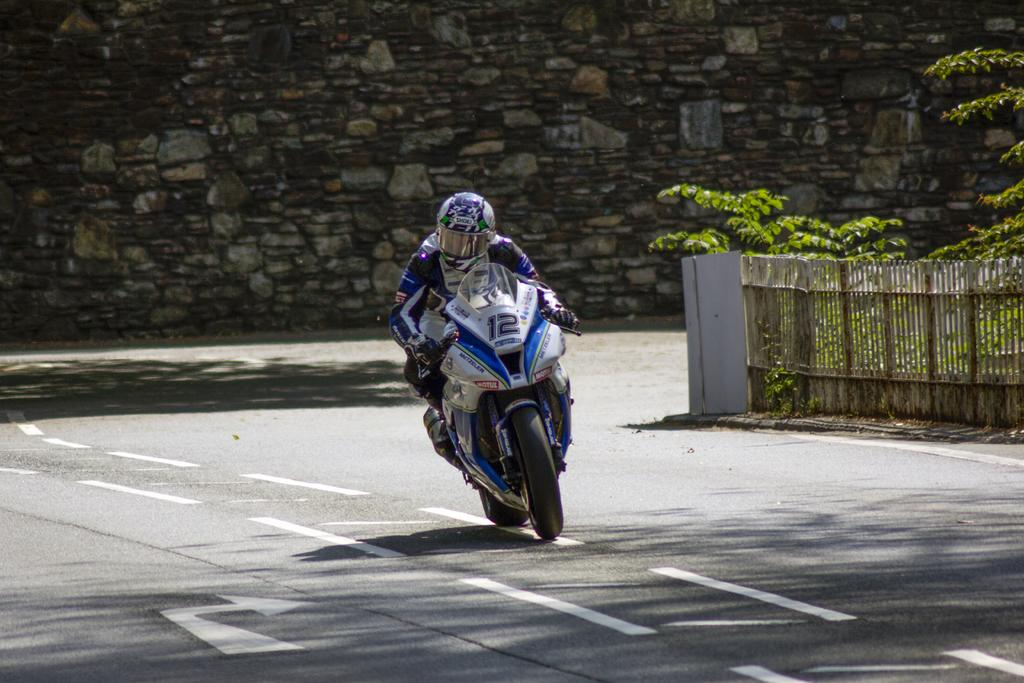helmet: (436, 192, 497, 272)
